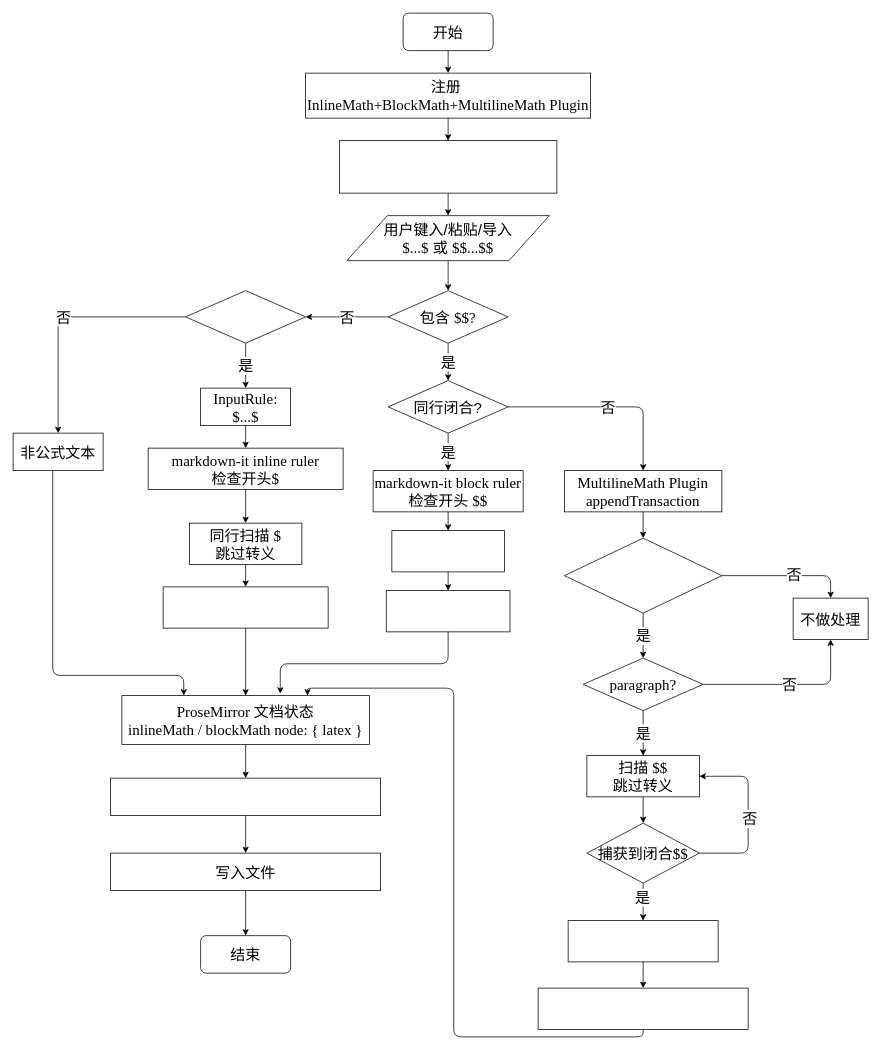
This 881x1056 diagram has some shape labels left out. Each missing label, with the centre of its shape:
"docChanged && selection.empty?" belongs at [643,575].
"replaceWith blockMath.create({latex})" belongs at [642,1008].
"Tiptap Editor 初始化 Math 注册至 ProseMirror Schema" belongs at [448,166].
"包含 $ ?" belongs at [245,316].
"同行扫描 $$ 跳过转义" belongs at [447,551].
"序列化" belongs at [245,796].
"提取 content, trim create blockMath" belongs at [448,611].
"提取 latex, trim replaceWith inlineMath" belongs at [245,607].
"收集中间段落 latexLines" belongs at [642,941].
